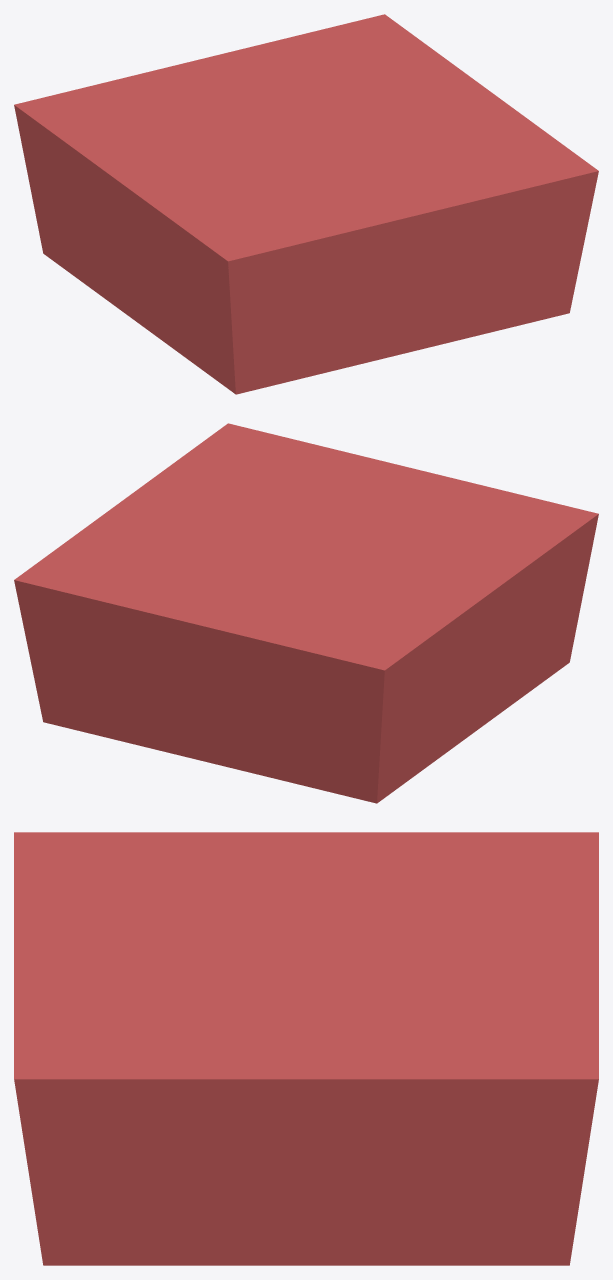
Rendered from km2_agaru.glb.
The picture shows the model from 3 angles, top to bottom: view 1: azimuth 30°, elevation 25°; view 2: azimuth 150°, elevation 25°; view 3: azimuth 270°, elevation 25°; orthographic projection. The views are drawn at different scales.
Visible parts, largest first — view 1: km2_agaru_col; view 2: km2_agaru_col; view 3: km2_agaru_col.
Boxes of the visible parts, box(x1,y1,x2,y2) form: km2_agaru_col: box(14, 14, 598, 394); km2_agaru_col: box(14, 423, 598, 803); km2_agaru_col: box(14, 832, 598, 1265).
Bounding box in the file's own units: 4 × 1.5 × 4.
